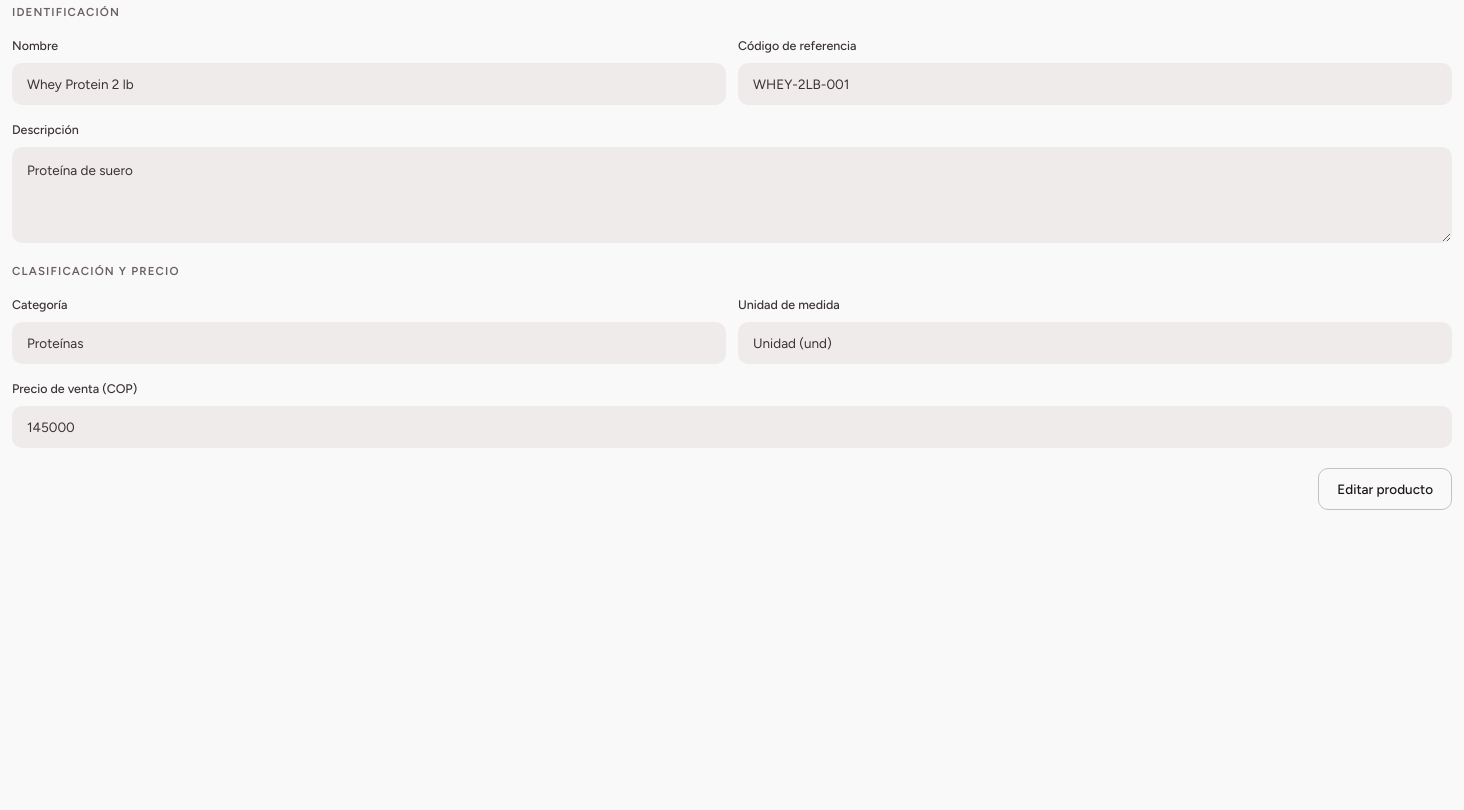
ProductDataForm editing › preloads the values and keeps the reference code locked
Click the button "Editar producto". click: (1385, 489)
box: [1318,468,1452,510]
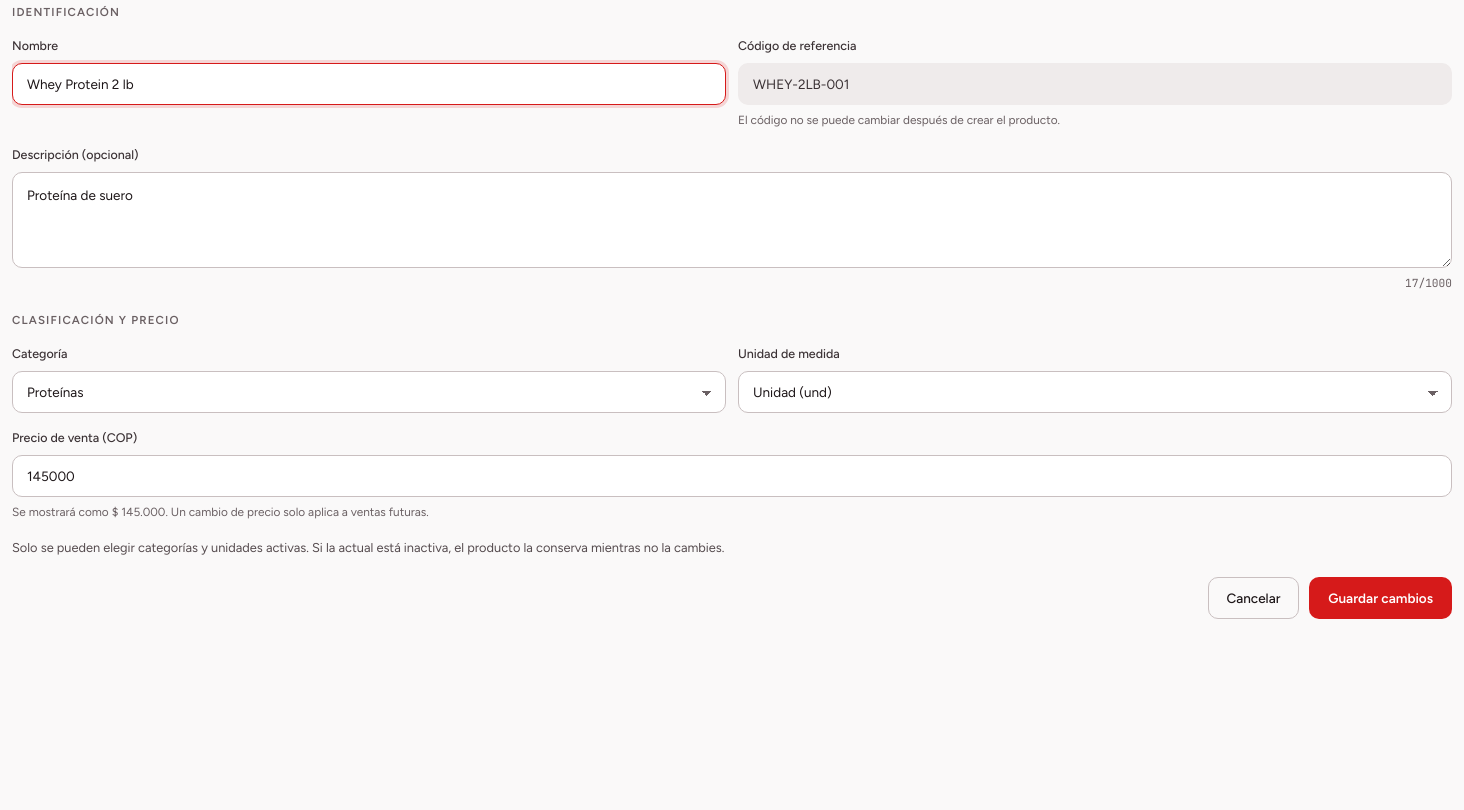
Check: the dropdown labelled "Categoría" is enabled, box [12,371,726,413]
Check: the dropdown labelled "Categoría" shows "Proteínas", box [12,371,726,413]
Check: the dropdown labelled "Unidad de medida" shows "Unidad (und)", box [738,371,1452,413]
